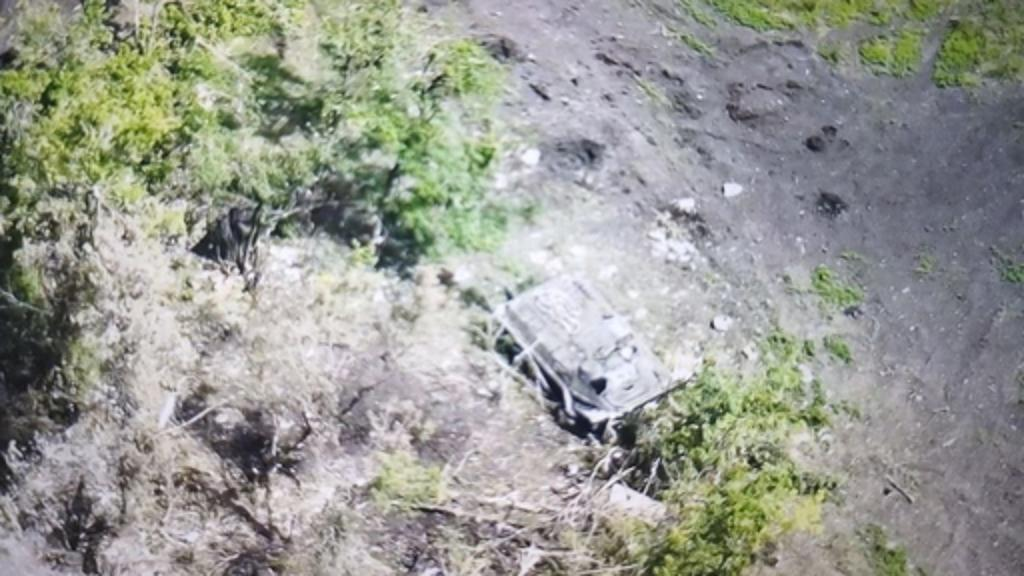APC-IFV: (480, 258, 692, 440)
